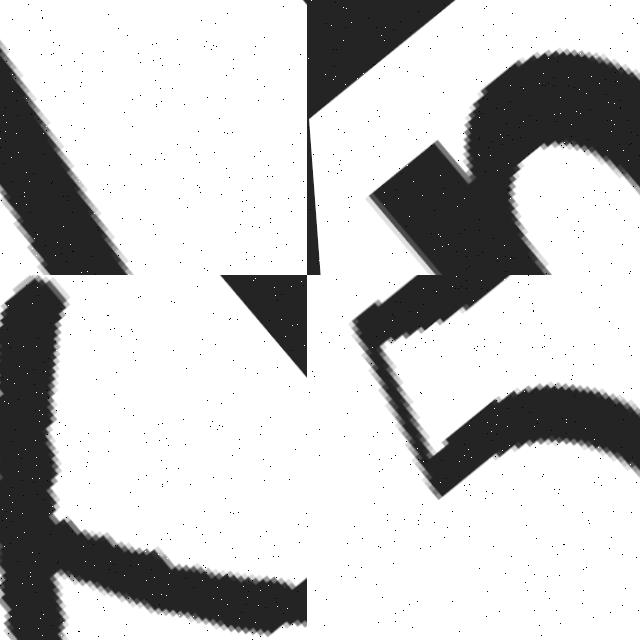5: (307, 275, 640, 640)
L: (0, 0, 307, 275)
P: (365, 48, 640, 275)
X: (0, 275, 307, 640)
